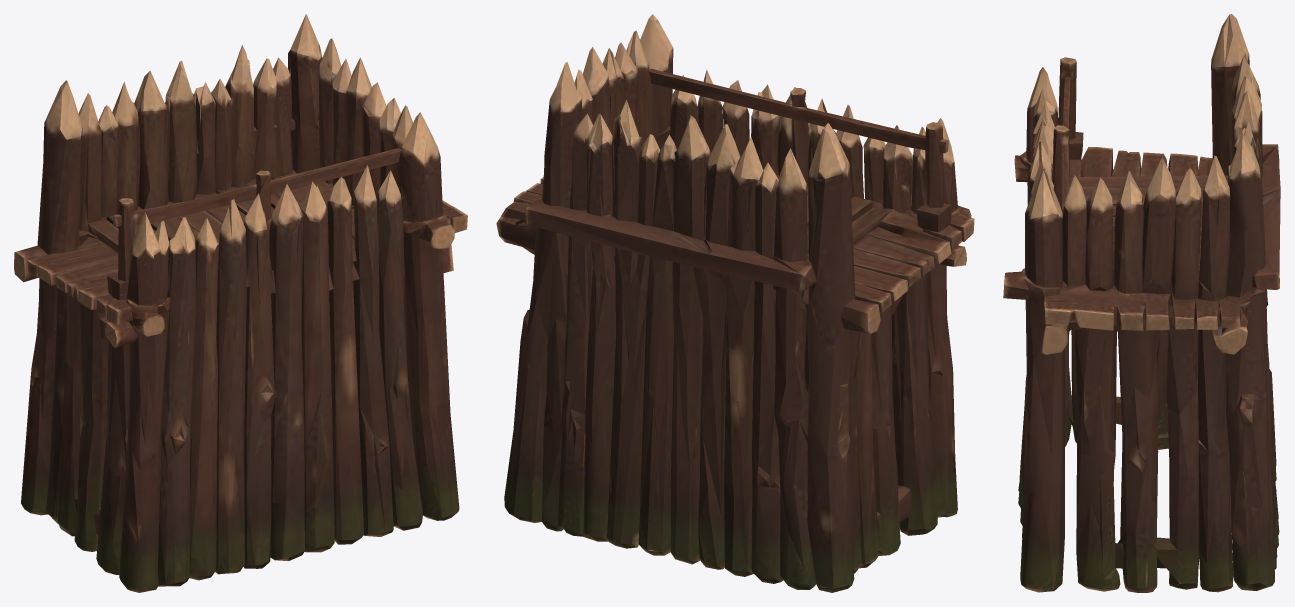
The model's file is wallseg.glb.
3 views of the same model, side by side, from view 1: azimuth 30°, elevation 25°; view 2: azimuth 150°, elevation 25°; view 3: azimuth 270°, elevation 25° (orthographic). The views are drawn at different scales.
Size of the model in its own units: 1.62 by 1.9 by 1.08.
Materials: 1 (1 with a texture image).
